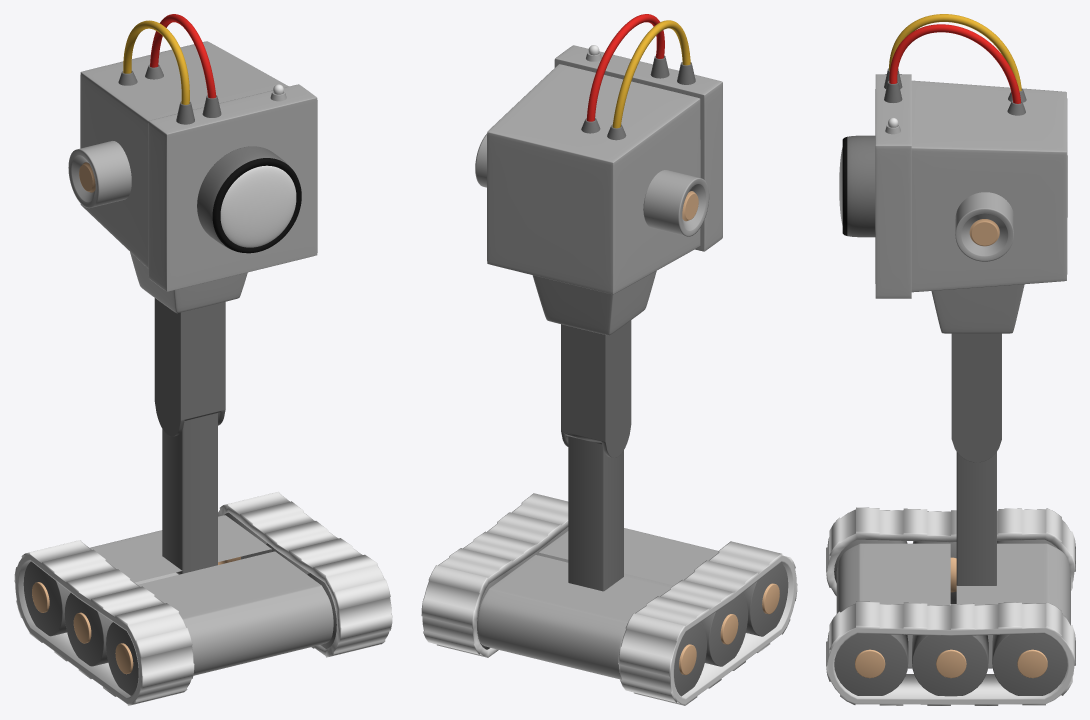
The model's file is trouble maker robot.fbx.
3 views of the same model, side by side, from view 1: azimuth 30°, elevation 25°; view 2: azimuth 150°, elevation 25°; view 3: azimuth 270°, elevation 25° (orthographic). The views are drawn at different scales.
Parts seen in each view (by area): view 1: tires, main comp front, Main Base, main comp, up middle base, middle base, wheel, lens, base base, base arm 1, base comp support, wheels screws (+3 smaller); view 2: main comp, tires, Main Base, up middle base, middle base, main comp front, wheel, base comp support, base arm 1, blue cable, red cable, wheels screws (+1 smaller); view 3: main comp, tires, Main Base, wheel, main comp front, up middle base, middle base, base comp support, base arm 1, base base, wheels screws, red cable (+2 smaller).
Boxes of the visible parts, x1,y1,x2,y2 form: tires: (14,491,392,705); main comp front: (148,84,317,291); Main Base: (90,515,333,675); main comp: (80,41,288,268); up middle base: (154,298,225,436); middle base: (162,413,217,574); wheel: (23,512,336,695); lens: (220,165,296,247); base base: (197,146,301,253); base arm 1: (68,141,131,208); base comp support: (130,252,247,313); wheels screws: (32,556,240,674); main comp: (487,64,700,294); tires: (421,493,797,705); Main Base: (477,528,718,679); up middle base: (561,320,631,457); middle base: (568,436,623,591); main comp front: (554,45,722,251); wheel: (477,527,788,696); base comp support: (532,271,656,335); base arm 1: (475,133,709,236); blue cable: (612,20,690,128); red cable: (586,14,664,121); wheels screws: (679,583,779,674); main comp: (911,80,1067,292); tires: (826,507,1075,705); Main Base: (836,543,1070,668); wheel: (834,539,1067,696); main comp front: (875,74,911,298); up middle base: (951,333,1001,462); middle base: (956,452,996,585); base comp support: (931,284,1024,333); base arm 1: (955,192,1013,261); base base: (842,135,875,237); wheels screws: (855,557,1047,678); red cable: (889,24,1020,103).
Bounding box in the file's own units: 5.18 × 12.47 × 4.62.
